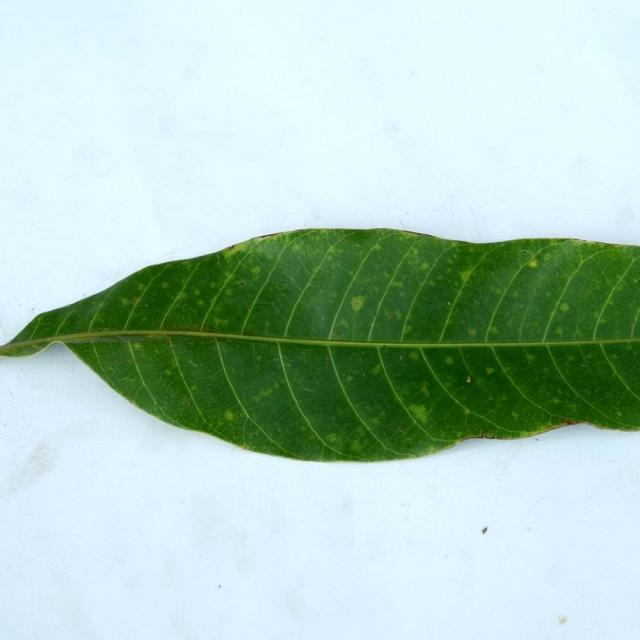Mango: (0, 230, 639, 461)
Powdery_Mildew: (255, 380, 280, 400), (407, 403, 429, 424), (348, 290, 363, 310), (382, 308, 401, 321), (419, 382, 431, 397), (173, 291, 188, 303), (459, 270, 472, 282), (371, 363, 383, 375), (212, 317, 226, 327), (350, 441, 361, 452), (558, 302, 570, 312), (524, 352, 536, 362), (354, 426, 366, 436), (128, 297, 141, 306), (390, 279, 403, 288), (329, 332, 342, 341), (224, 410, 234, 421), (408, 351, 419, 361), (326, 433, 338, 442), (445, 319, 455, 329), (527, 259, 538, 268), (337, 319, 348, 328), (419, 262, 430, 271), (444, 356, 454, 365), (250, 266, 260, 275), (489, 326, 499, 335), (596, 318, 607, 326), (403, 324, 412, 333), (566, 355, 576, 363), (119, 297, 129, 305), (372, 244, 383, 251), (468, 328, 476, 337), (555, 326, 563, 335), (345, 375, 354, 383), (136, 282, 145, 290), (585, 353, 595, 360), (604, 300, 614, 307), (486, 367, 494, 375), (193, 288, 201, 296), (511, 290, 519, 298), (133, 343, 142, 350), (164, 369, 173, 376), (506, 319, 513, 328), (161, 282, 169, 289), (197, 299, 205, 306), (512, 410, 519, 418), (552, 398, 561, 404), (301, 424, 308, 431), (190, 385, 197, 391), (256, 355, 263, 361), (237, 281, 245, 286), (464, 409, 470, 415), (617, 410, 623, 416), (466, 376, 471, 383)
